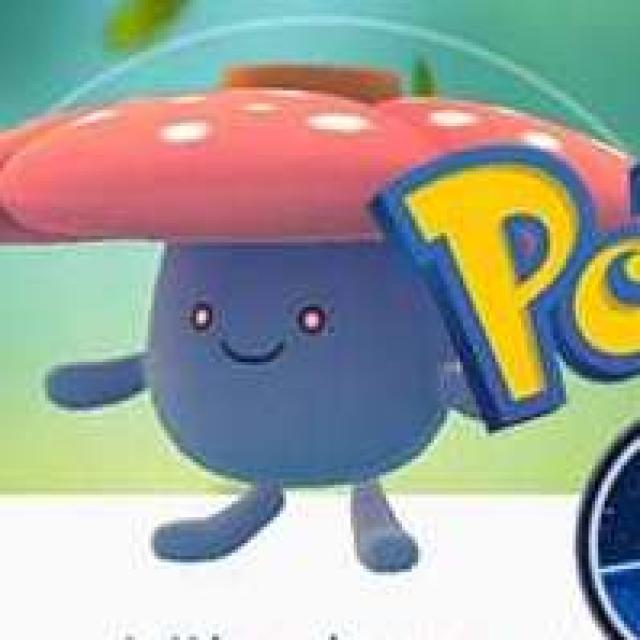Vileplume: (115, 63, 464, 554)
